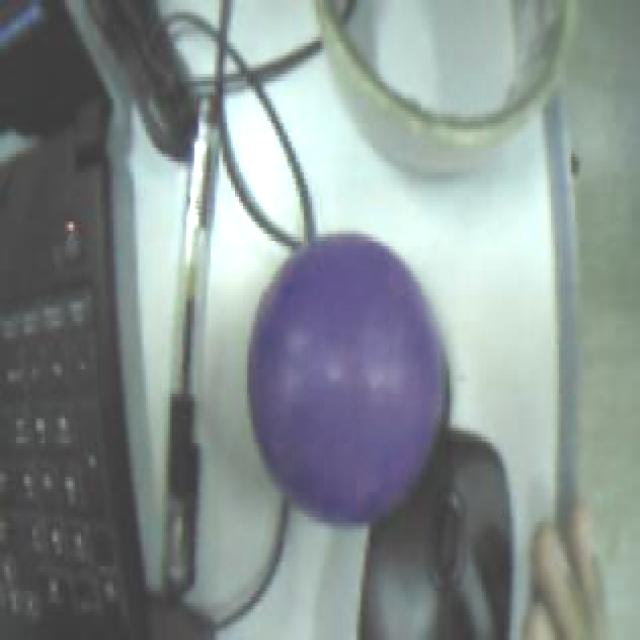BallPurple: (243, 233, 439, 524)
